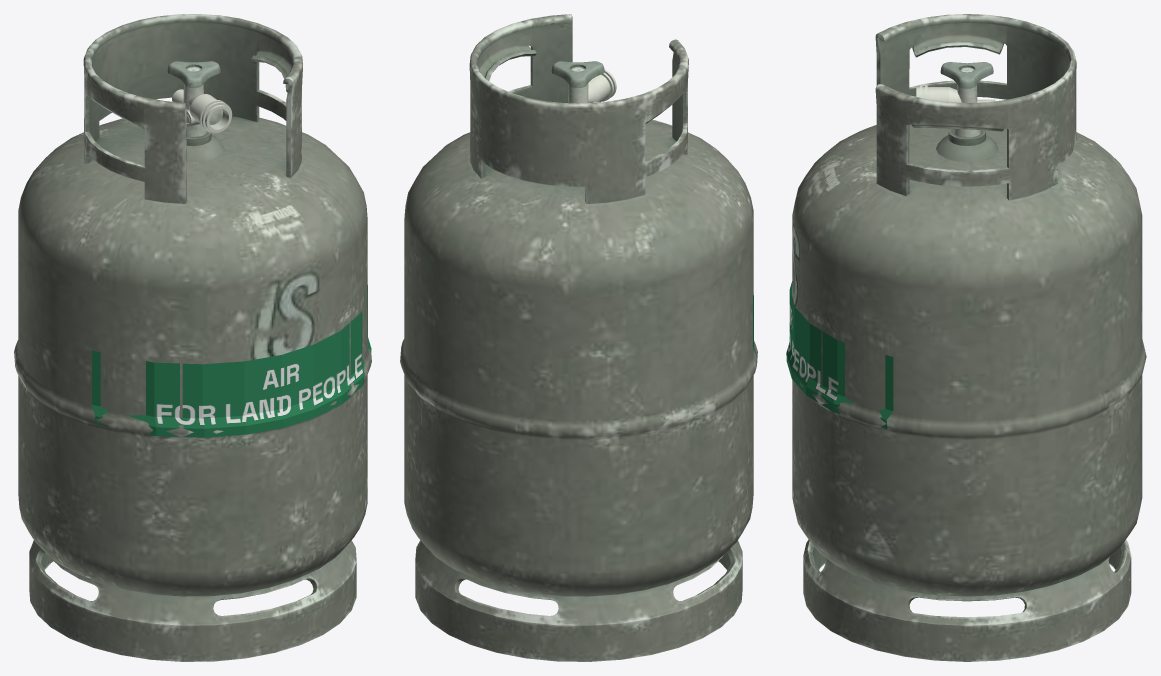
Rendered from nyb_splash_air.glb.
3 views of the same model, side by side, from view 1: azimuth 30°, elevation 25°; view 2: azimuth 150°, elevation 25°; view 3: azimuth 270°, elevation 25° (orthographic).
Parts seen in each view (by area): view 1: propane_tank, stk_lbl_50d445e2fa.png; view 2: propane_tank; view 3: propane_tank, stk_lbl_50d445e2fa.png.
Part boxes in pixels (x1=…): propane_tank: x1=14, y1=14, x2=371, y2=661; stk_lbl_50d445e2fa.png: x1=92, y1=285, x2=371, y2=437; propane_tank: x1=400, y1=14, x2=757, y2=661; propane_tank: x1=792, y1=14, x2=1146, y2=661; stk_lbl_50d445e2fa.png: x1=786, y1=281, x2=893, y2=429.
Bounding box in the file's own units: 0.3374 × 0.5538 × 0.3389.
Materials: 2 (2 with a texture image).
